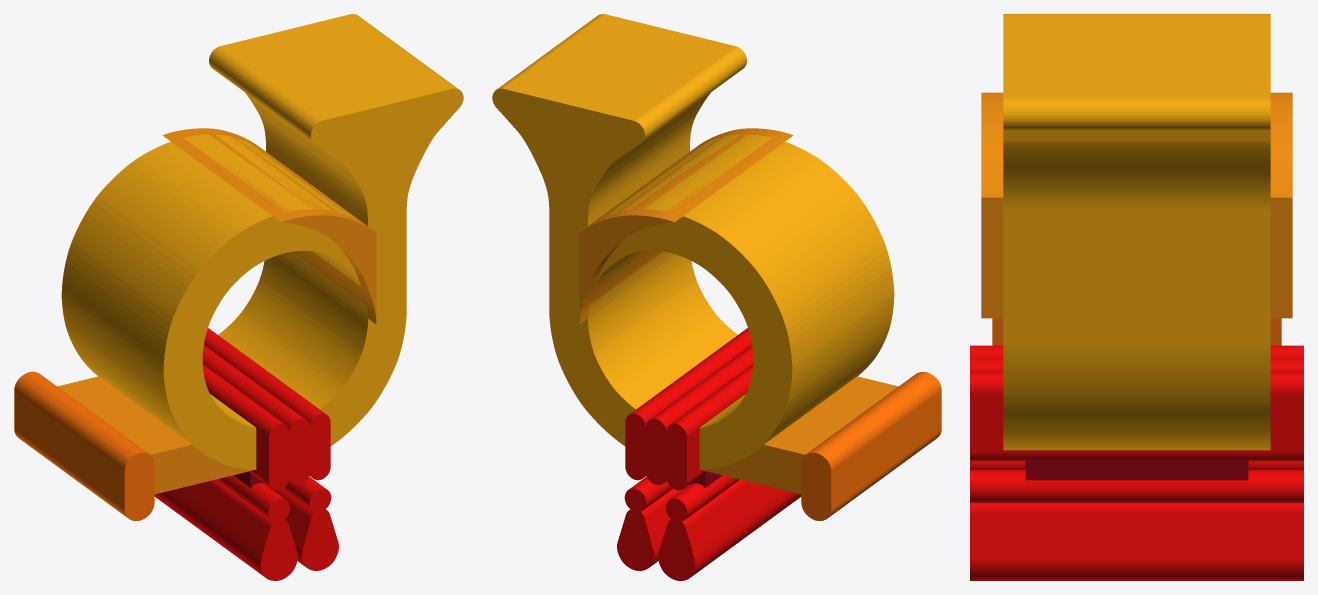
3 views of the same model, side by side, from view 1: azimuth 30°, elevation 25°; view 2: azimuth 150°, elevation 25°; view 3: azimuth 270°, elevation 25° (orthographic). The views are drawn at different scales.
Visible parts, largest first — view 1: U+1F4EF_layer02_obj00, U+1F4EF_layer05_obj00, U+1F4EF_layer03_obj00, U+1F4EF_layer04_obj00, U+1F4EF_layer01_obj00; view 2: U+1F4EF_layer02_obj00, U+1F4EF_layer05_obj00, U+1F4EF_layer03_obj00, U+1F4EF_layer04_obj00, U+1F4EF_layer01_obj00; view 3: U+1F4EF_layer02_obj00, U+1F4EF_layer05_obj00, U+1F4EF_layer04_obj00, U+1F4EF_layer00_obj00, U+1F4EF_layer03_obj00.
Part boxes in pixels (box(x1,y1,x2,y2)): U+1F4EF_layer02_obj00: box(61, 14, 463, 469); U+1F4EF_layer05_obj00: box(154, 328, 338, 580); U+1F4EF_layer03_obj00: box(14, 371, 154, 520); U+1F4EF_layer04_obj00: box(162, 128, 376, 323); U+1F4EF_layer01_obj00: box(57, 376, 251, 494); U+1F4EF_layer02_obj00: box(492, 14, 894, 469); U+1F4EF_layer05_obj00: box(617, 328, 801, 580); U+1F4EF_layer03_obj00: box(801, 371, 941, 520); U+1F4EF_layer04_obj00: box(579, 128, 793, 323); U+1F4EF_layer01_obj00: box(704, 376, 898, 494); U+1F4EF_layer02_obj00: box(1003, 14, 1270, 450); U+1F4EF_layer05_obj00: box(970, 345, 1303, 580); U+1F4EF_layer04_obj00: box(981, 92, 1292, 318); U+1F4EF_layer00_obj00: box(1025, 460, 1248, 480); U+1F4EF_layer03_obj00: box(992, 318, 1281, 345).
Bounding box in the file's own units: 0.4665 × 0.5677 × 0.3.
